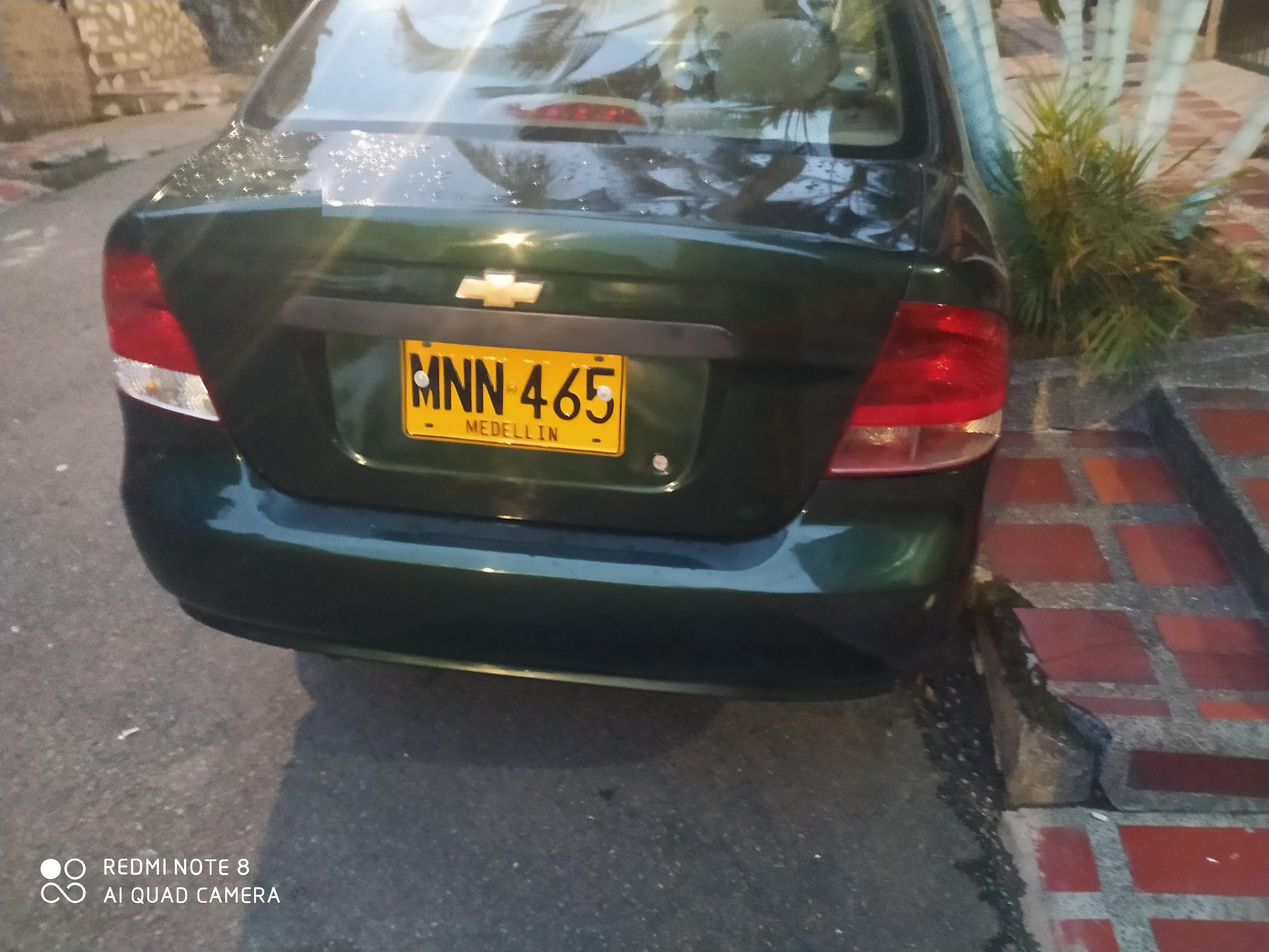placa: (388, 332, 630, 463)
